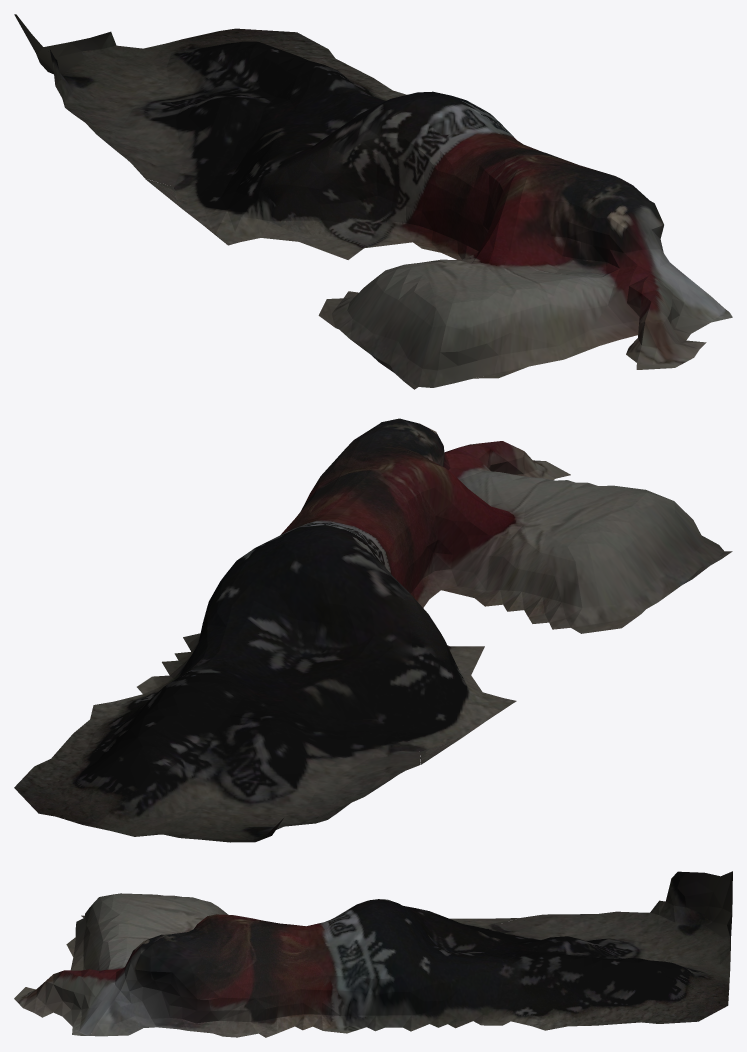
The picture shows the model from 3 angles, top to bottom: view 1: azimuth 30°, elevation 25°; view 2: azimuth 150°, elevation 25°; view 3: azimuth 270°, elevation 25°; orthographic projection. The views are drawn at different scales.
Bounding box in the file's own units: 0.8564 × 0.2731 × 2.13.
Materials: 1 (1 with a texture image).
